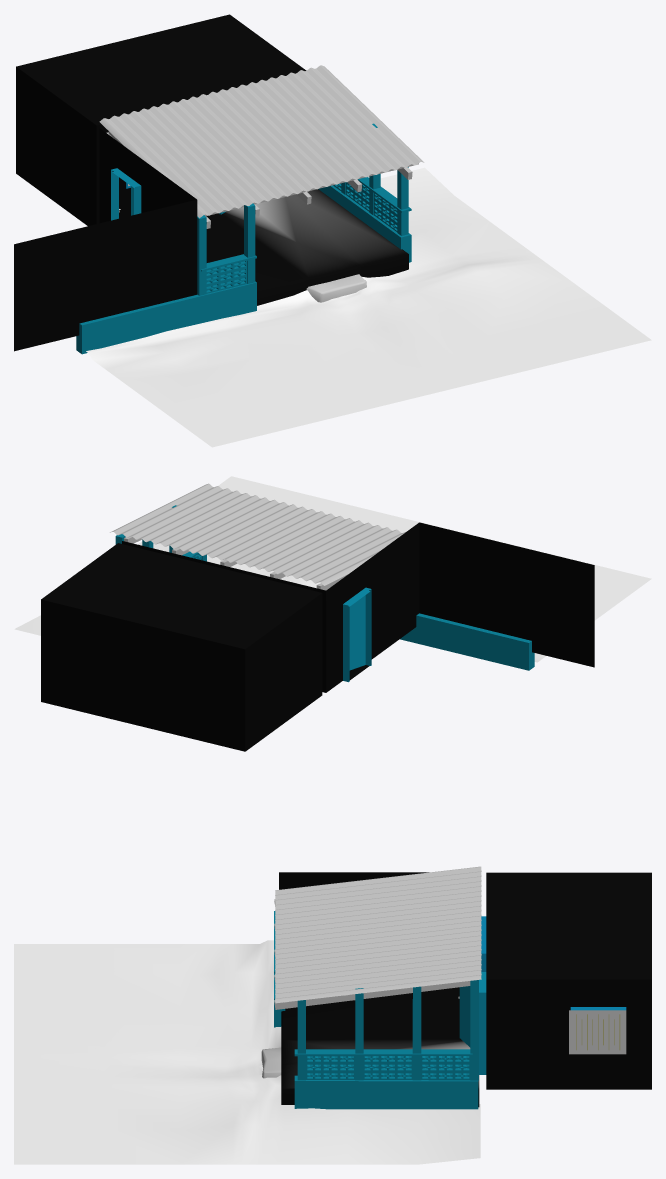
Rendered from Room_Triage.FBX.
The picture shows the model from 3 angles, top to bottom: view 1: azimuth 30°, elevation 25°; view 2: azimuth 150°, elevation 25°; view 3: azimuth 270°, elevation 25°; orthographic projection. The views are drawn at different scales.
Parts seen in each view (by area): view 1: Room_Triage; view 2: Room_Triage; view 3: Room_Triage.
Boxes of the visible parts, left/top/right/bottom form: Room_Triage: left=14, top=14, right=651, bottom=447; Room_Triage: left=14, top=476, right=651, bottom=751; Room_Triage: left=14, top=866, right=651, bottom=1164.
Size of the model in its own units: 587 by 150 by 620.
